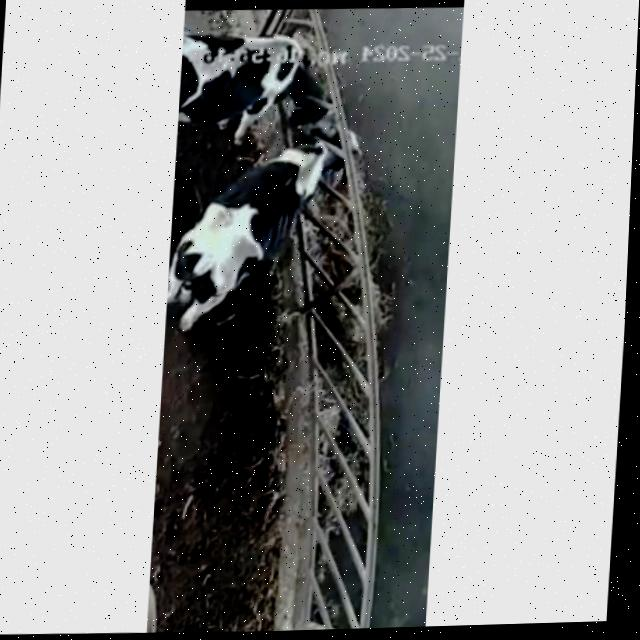eat: (198, 18, 390, 115), (246, 115, 393, 229)
